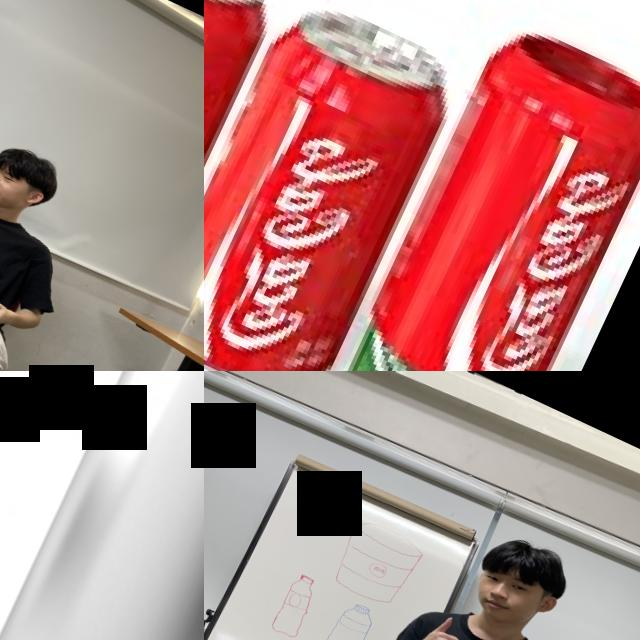can: (313, 12, 640, 371), (204, 0, 469, 371), (0, 371, 204, 640), (204, 0, 292, 343)
